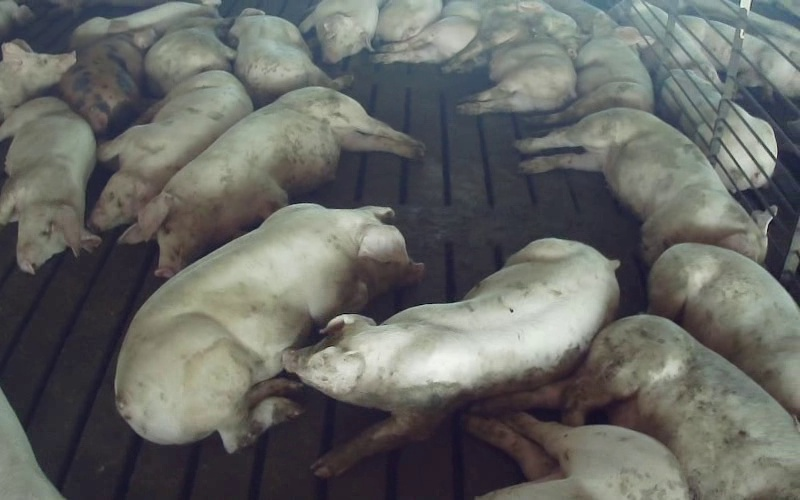pig: (285, 240, 618, 476), (115, 204, 423, 451), (476, 315, 799, 499), (515, 108, 766, 264), (649, 243, 799, 417), (465, 412, 688, 499), (0, 97, 100, 273), (544, 11, 653, 123), (229, 8, 352, 106), (59, 21, 156, 134), (457, 36, 576, 114), (144, 17, 235, 94), (0, 39, 75, 122), (299, 0, 378, 63), (373, 0, 442, 44)
